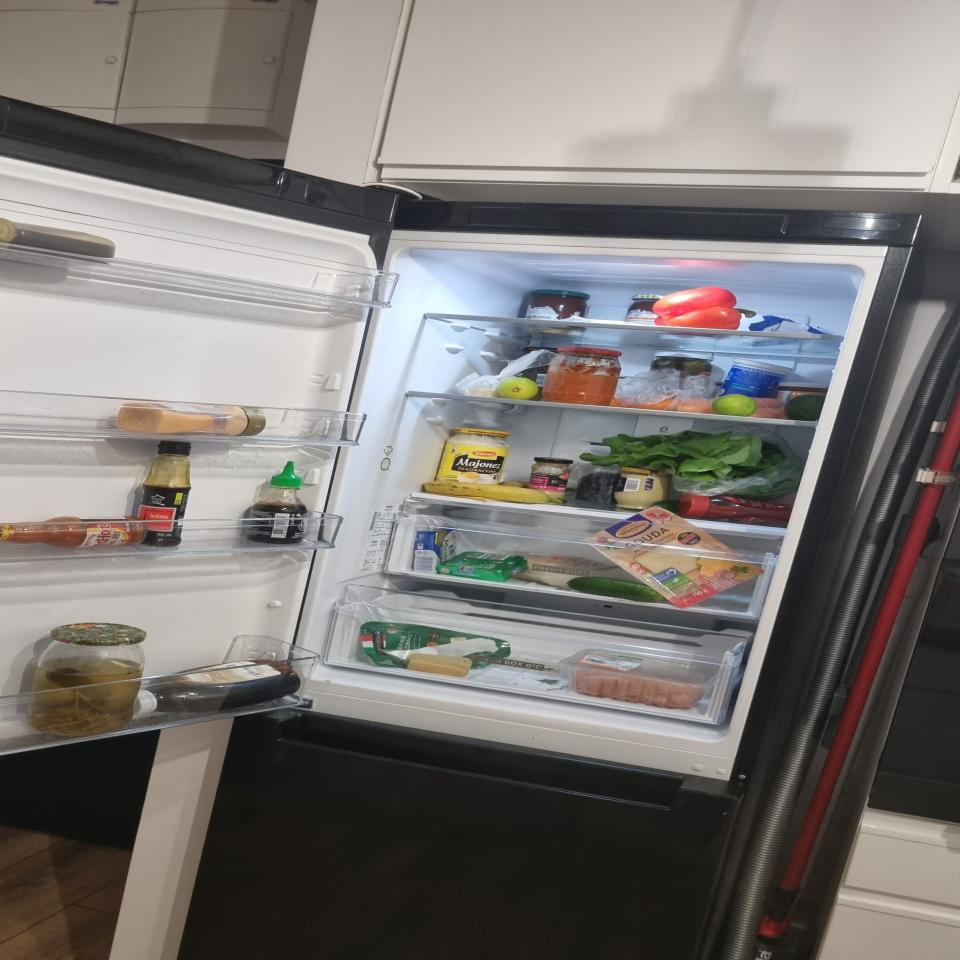Aguacate: (783, 394, 824, 422)
Carne pollo: (561, 649, 722, 710)
Lechuga/Endivia: (579, 429, 800, 500)
Mantequilla: (737, 315, 833, 347), (436, 551, 529, 583), (411, 528, 463, 574)
Pepino: (566, 576, 665, 602)
Plátano: (422, 481, 568, 505)
Queso: (584, 506, 765, 609), (405, 653, 473, 678), (467, 388, 497, 397)
Yogur: (715, 356, 797, 399)
Zanahoria: (676, 399, 785, 419), (608, 398, 679, 411)
